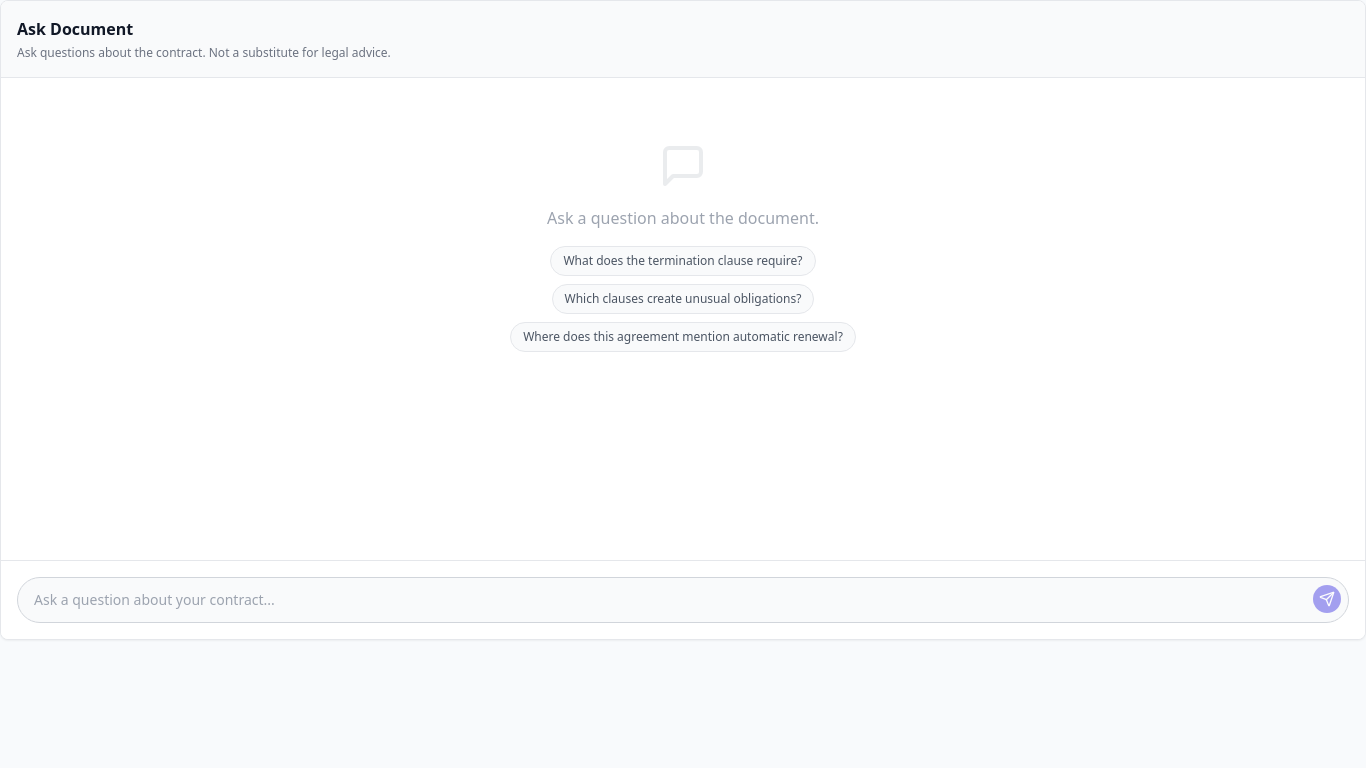
Frontend Implementations › renders Q&A and includes disclaimer in mock
The image size is (1366, 768).
Type "test?" into the field with placeholder "Ask a question about your contract...". click: coordinates (683, 600)
box: x1=17 y1=577 x2=1349 y2=623
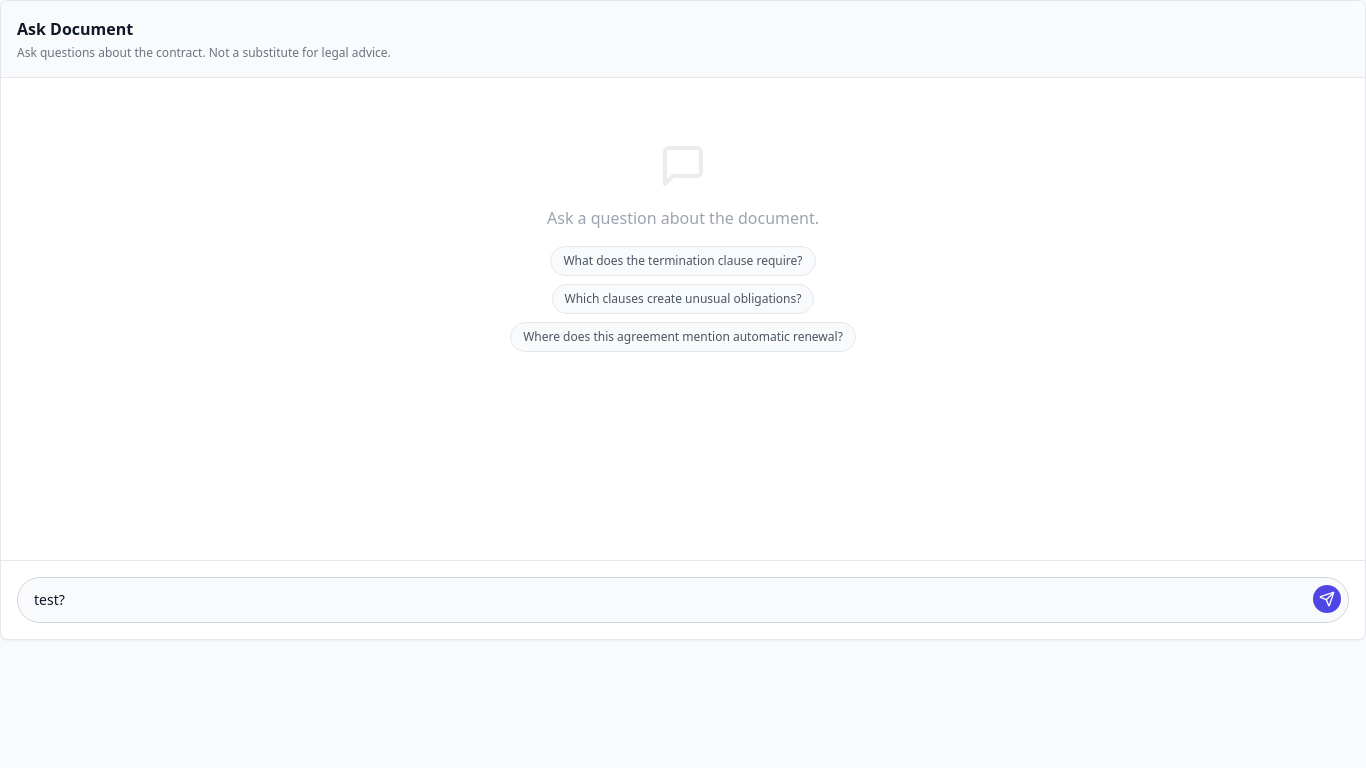
Submit the form, box x1=17 y1=577 x2=1349 y2=623
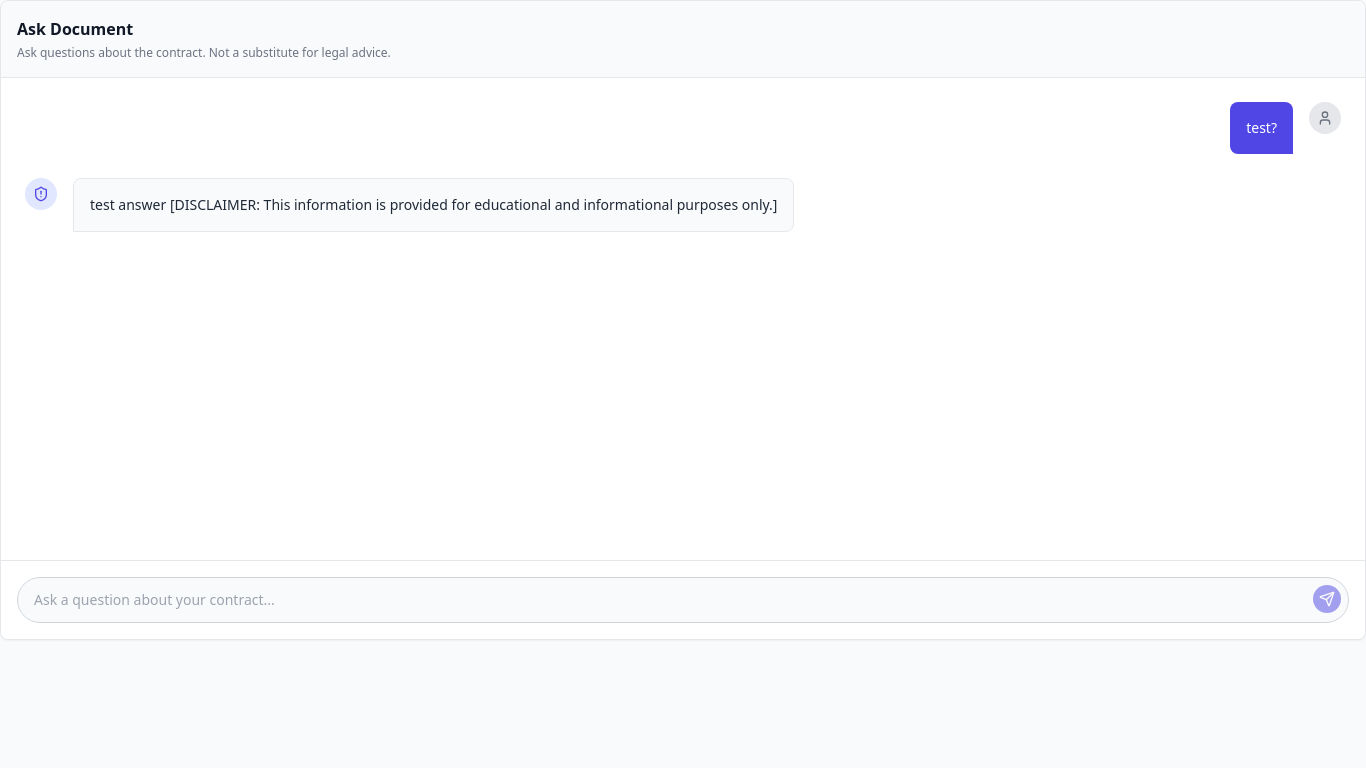
expect the text "DISCLAIMER:" is shown: met, box x1=90 y1=195 x2=778 y2=214
